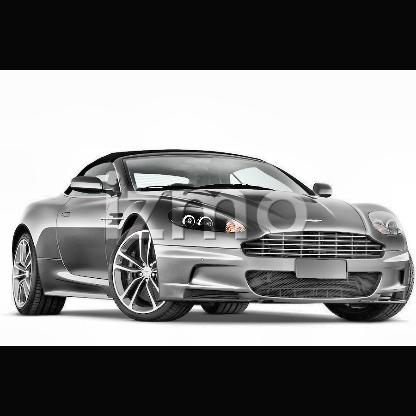Aston Martin Virage Convertible 2012: (14, 151, 416, 324)
